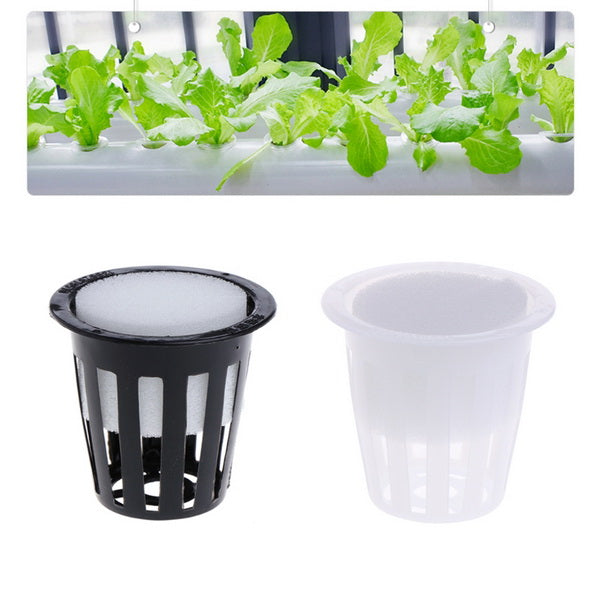basket: (324, 245, 570, 531), (41, 249, 288, 533)
